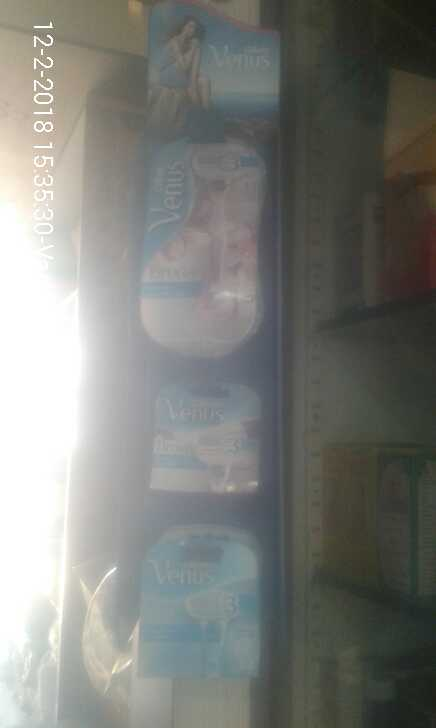venus: (148, 132, 273, 364), (141, 531, 269, 696), (143, 367, 267, 494)
